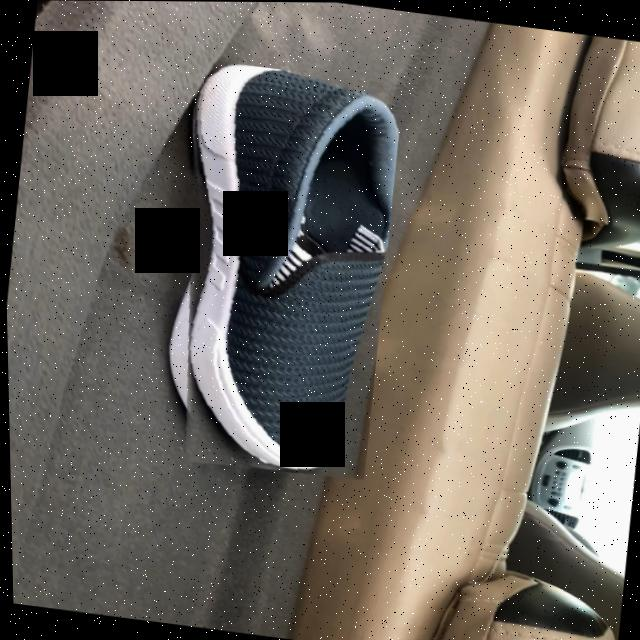shoe: (183, 65, 398, 473)
